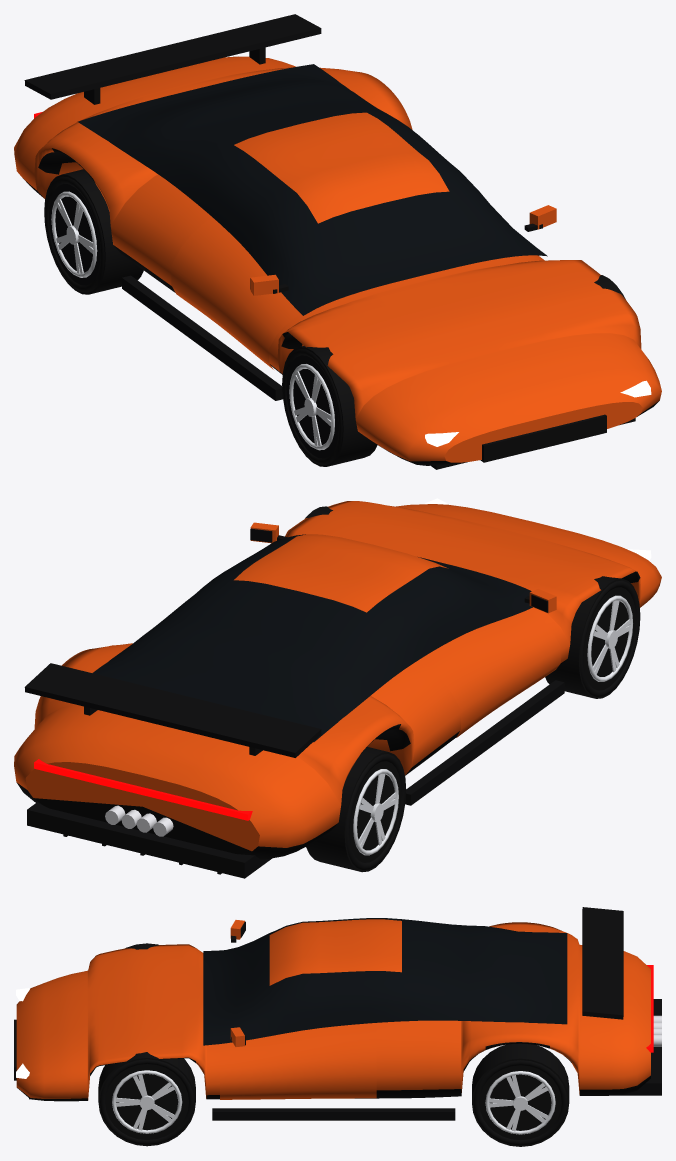
Rendered from vortex.glb.
3 renders of one model, top to bottom at view 1: azimuth 30°, elevation 25°; view 2: azimuth 150°, elevation 25°; view 3: azimuth 270°, elevation 25°, orthographic. The views are drawn at different scales.
Visible parts, largest first — view 1: Body, Cabin, Details, Panel2, Tire4, Tire2, Rim4, Rim2, HeadLights; view 2: Body, Cabin, Details, Panel2, Tire4, Tire2, TailLights, Rim4, Rim2; view 3: Body, Cabin, Panel, Details, Tire3, Tire, Rim, Rim3.
Boxes of the visible parts, x1,y1,x2,y2 form: Body: (14, 56, 661, 465); Cabin: (77, 64, 547, 315); Details: (24, 14, 635, 469); Panel2: (171, 217, 300, 369); Tire4: (44, 169, 143, 294); Tire2: (282, 346, 377, 466); Rim4: (51, 191, 97, 277); Rim2: (289, 364, 334, 450); HeadLights: (425, 380, 651, 446); Body: (14, 501, 661, 859); Cabin: (92, 534, 532, 742); Details: (24, 522, 564, 878); Panel2: (418, 611, 561, 737); Tire4: (306, 747, 406, 872); Tire2: (545, 576, 640, 698); TailLights: (34, 759, 252, 820); Rim4: (353, 769, 398, 855); Rim2: (587, 595, 632, 681); Body: (16, 922, 650, 1101); Cabin: (203, 918, 567, 1045); Panel: (220, 1023, 376, 1099); Details: (14, 907, 661, 1120); Tire3: (472, 1043, 569, 1146); Tire: (98, 1052, 195, 1146); Rim: (112, 1070, 182, 1133); Rim3: (485, 1071, 555, 1134).
Size of the model in its own units: 2.07 by 1.19 by 4.72.
